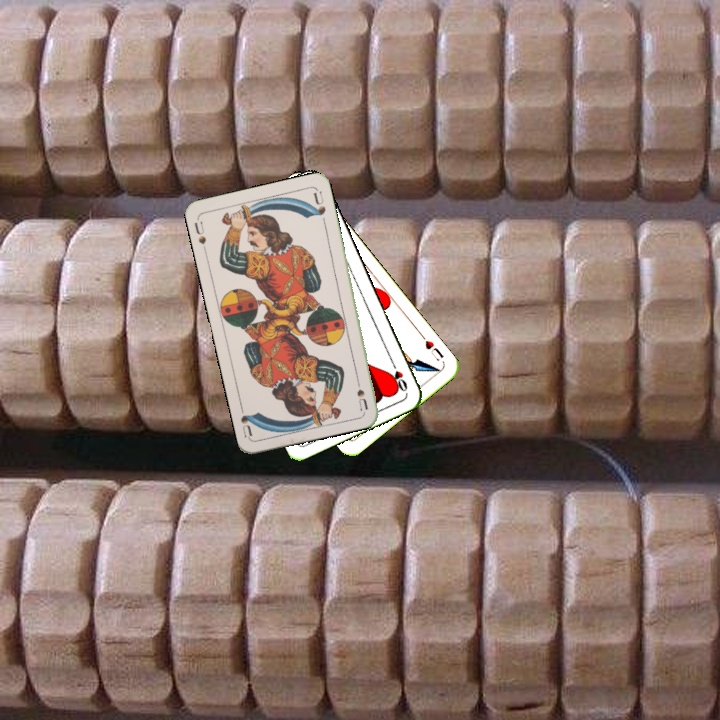HO: (387, 356, 410, 394)
HU: (421, 336, 446, 363)
SU: (352, 372, 371, 412), (190, 217, 209, 247)
